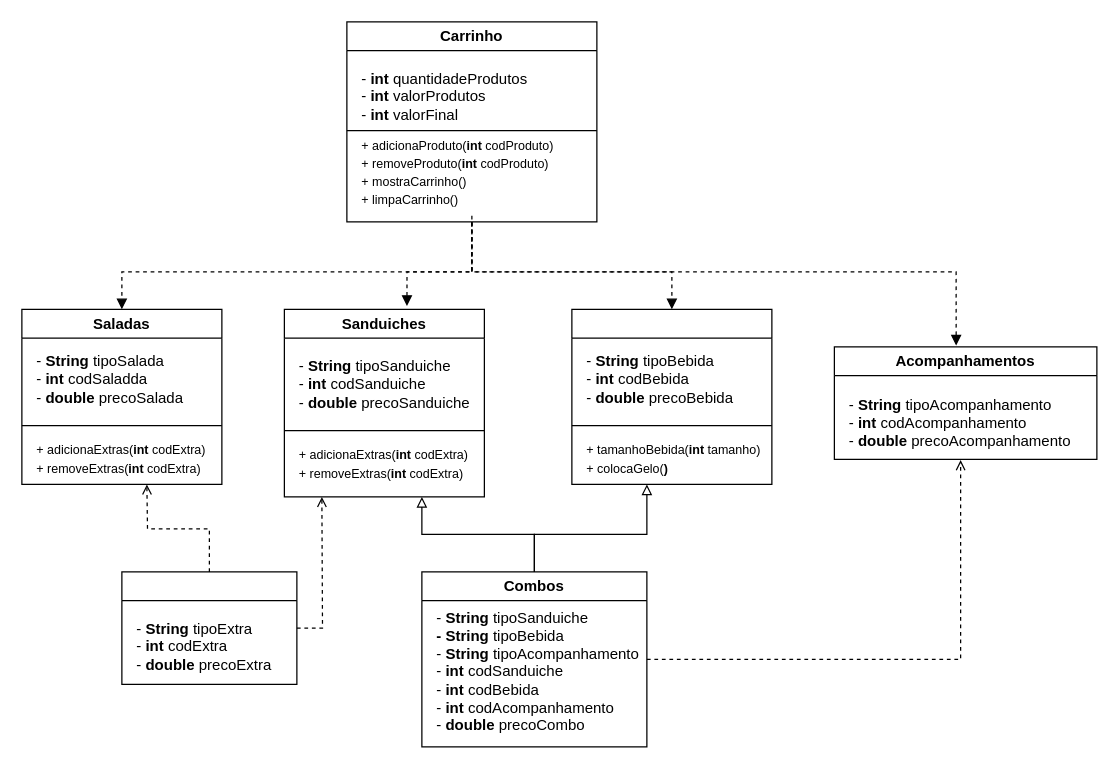
This 1119x769 diagram has some shape labels left out. Each missing label, with the box of its shape:
Bebidas: (571, 308, 772, 484)
Extras: (121, 571, 297, 684)
